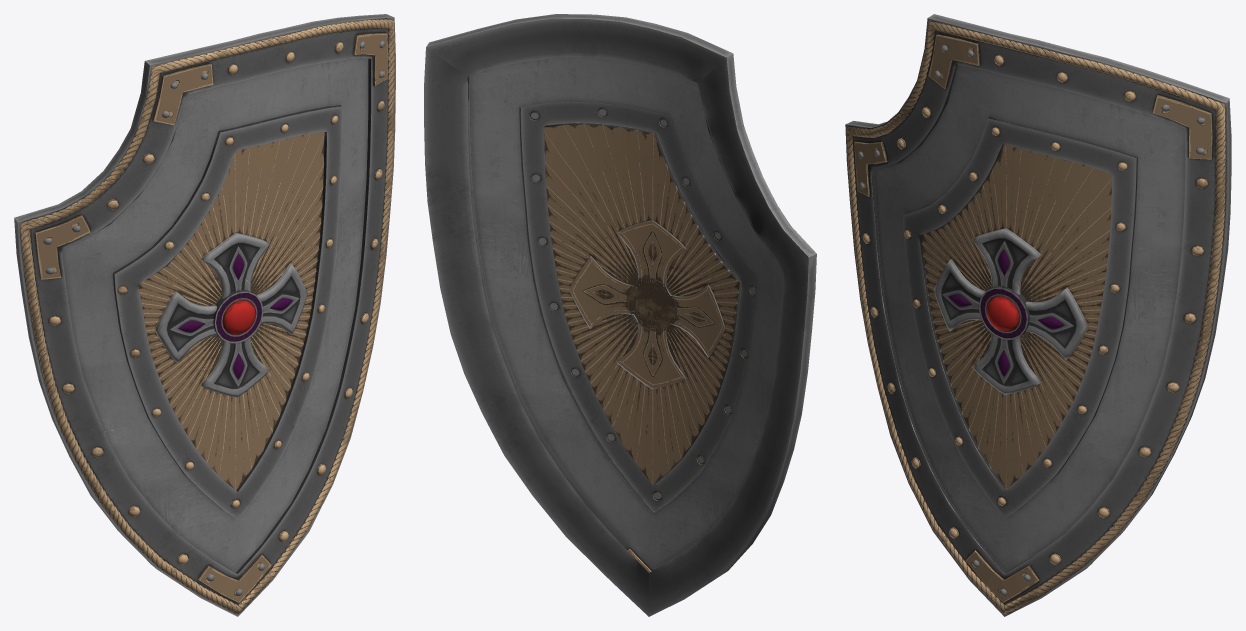
File: shield (1).glb
3 views of the same model, side by side, from view 1: azimuth 30°, elevation 25°; view 2: azimuth 150°, elevation 25°; view 3: azimuth 330°, elevation 25° (orthographic). The views are drawn at different scales.
Parts seen in each view (by area): view 1: Object_2; view 2: Object_2; view 3: Object_2.
Boxes of the visible parts, x1,y1,x2,y2 form: Object_2: (14, 14, 395, 616); Object_2: (424, 14, 816, 616); Object_2: (845, 14, 1231, 616).
Bounding box in the file's own units: 3.1 × 4.48 × 0.6016.
1 material, 1 textured.
